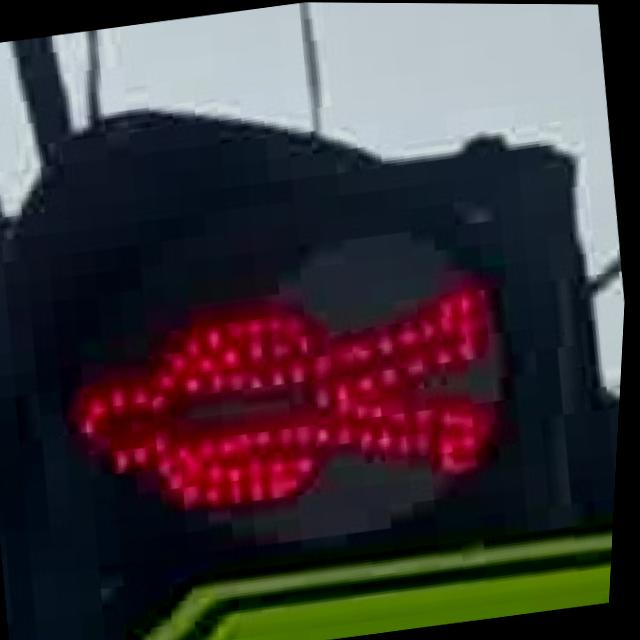red_light: (32, 242, 527, 561)
